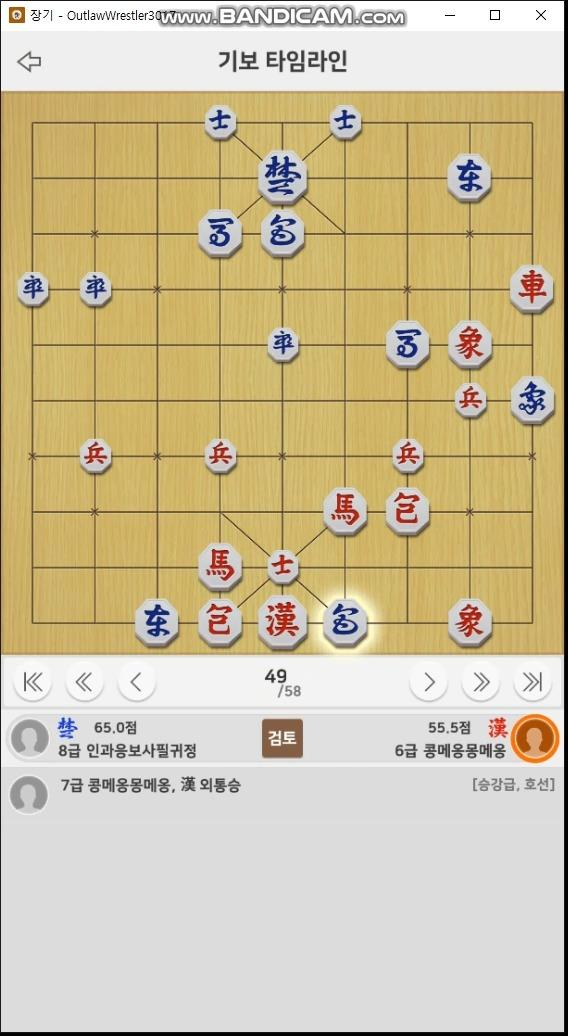cha_green: (449, 154, 491, 202), (134, 599, 178, 642)
cha_red: (511, 266, 553, 312)
jol_green: (78, 271, 115, 309), (266, 326, 301, 364), (17, 271, 51, 307)
jol_red: (391, 436, 424, 476), (204, 437, 236, 475), (80, 439, 112, 475), (456, 384, 486, 419)
ma_green: (386, 321, 431, 368), (199, 208, 243, 255)
ma_red: (200, 543, 241, 590), (325, 487, 365, 532)
po_green: (260, 210, 305, 257), (324, 600, 367, 641)
po_red: (388, 488, 429, 536), (198, 600, 242, 642)
sa_green: (330, 105, 361, 139), (205, 105, 236, 137)
sa_red: (268, 549, 299, 584)
sang_green: (512, 375, 556, 422)
sang_red: (449, 598, 491, 645), (450, 323, 491, 365)
wang_green: (259, 150, 308, 202)
wang_red: (258, 597, 306, 643)
